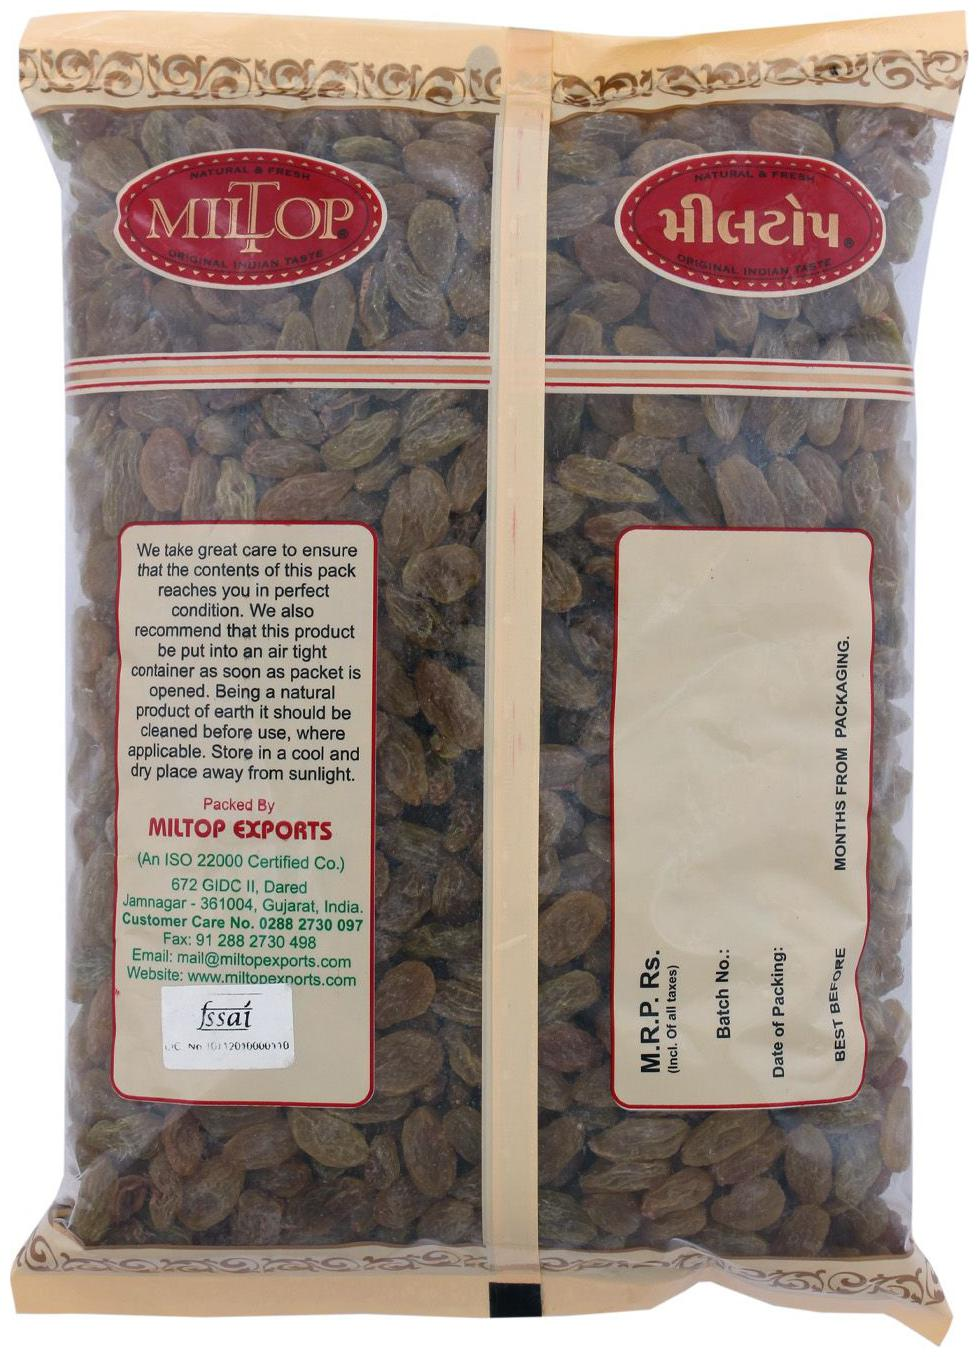fssai: (189, 994, 258, 1035)
